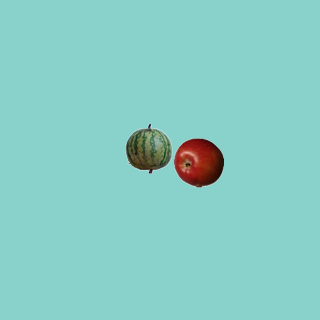Apple Braeburn: (173, 137, 223, 187)
Watermelon: (123, 123, 173, 173)
